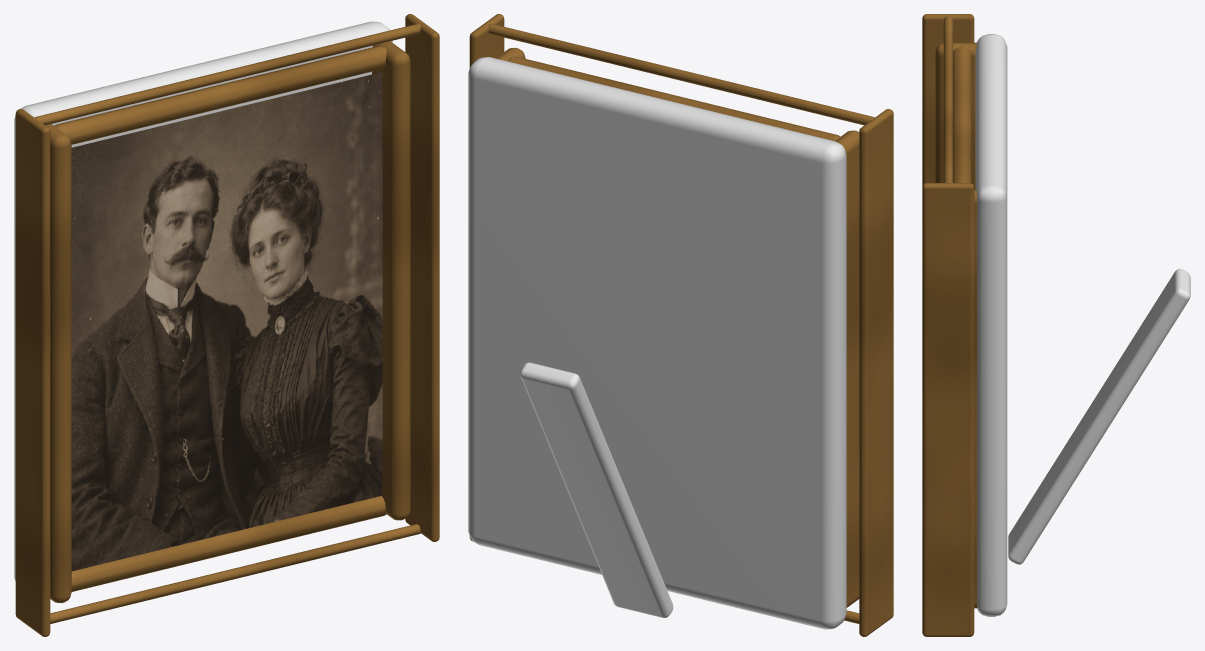
The model's file is PhotoCouple.fbx.
3 views of the same model, side by side, from view 1: azimuth 30°, elevation 25°; view 2: azimuth 150°, elevation 25°; view 3: azimuth 270°, elevation 25° (orthographic). The views are drawn at different scales.
Parts seen in each view (by area): view 1: PhotoCouple_ArtAtlas, PhotoCouple_Brass, PhotoCouple_Walnut; view 2: PhotoCouple_Walnut, PhotoCouple_Brass; view 3: PhotoCouple_Brass, PhotoCouple_Walnut.
Boxes of the visible parts, x1,y1,x2,y2 form: PhotoCouple_ArtAtlas: (71, 72, 382, 571); PhotoCouple_Brass: (15, 14, 439, 636); PhotoCouple_Walnut: (14, 21, 392, 581); PhotoCouple_Walnut: (468, 57, 846, 629); PhotoCouple_Brass: (469, 14, 893, 636); PhotoCouple_Brass: (922, 14, 977, 636); PhotoCouple_Walnut: (975, 34, 1190, 616).
Size of the model in its own units: 28.43 by 34.93 by 18.64.
